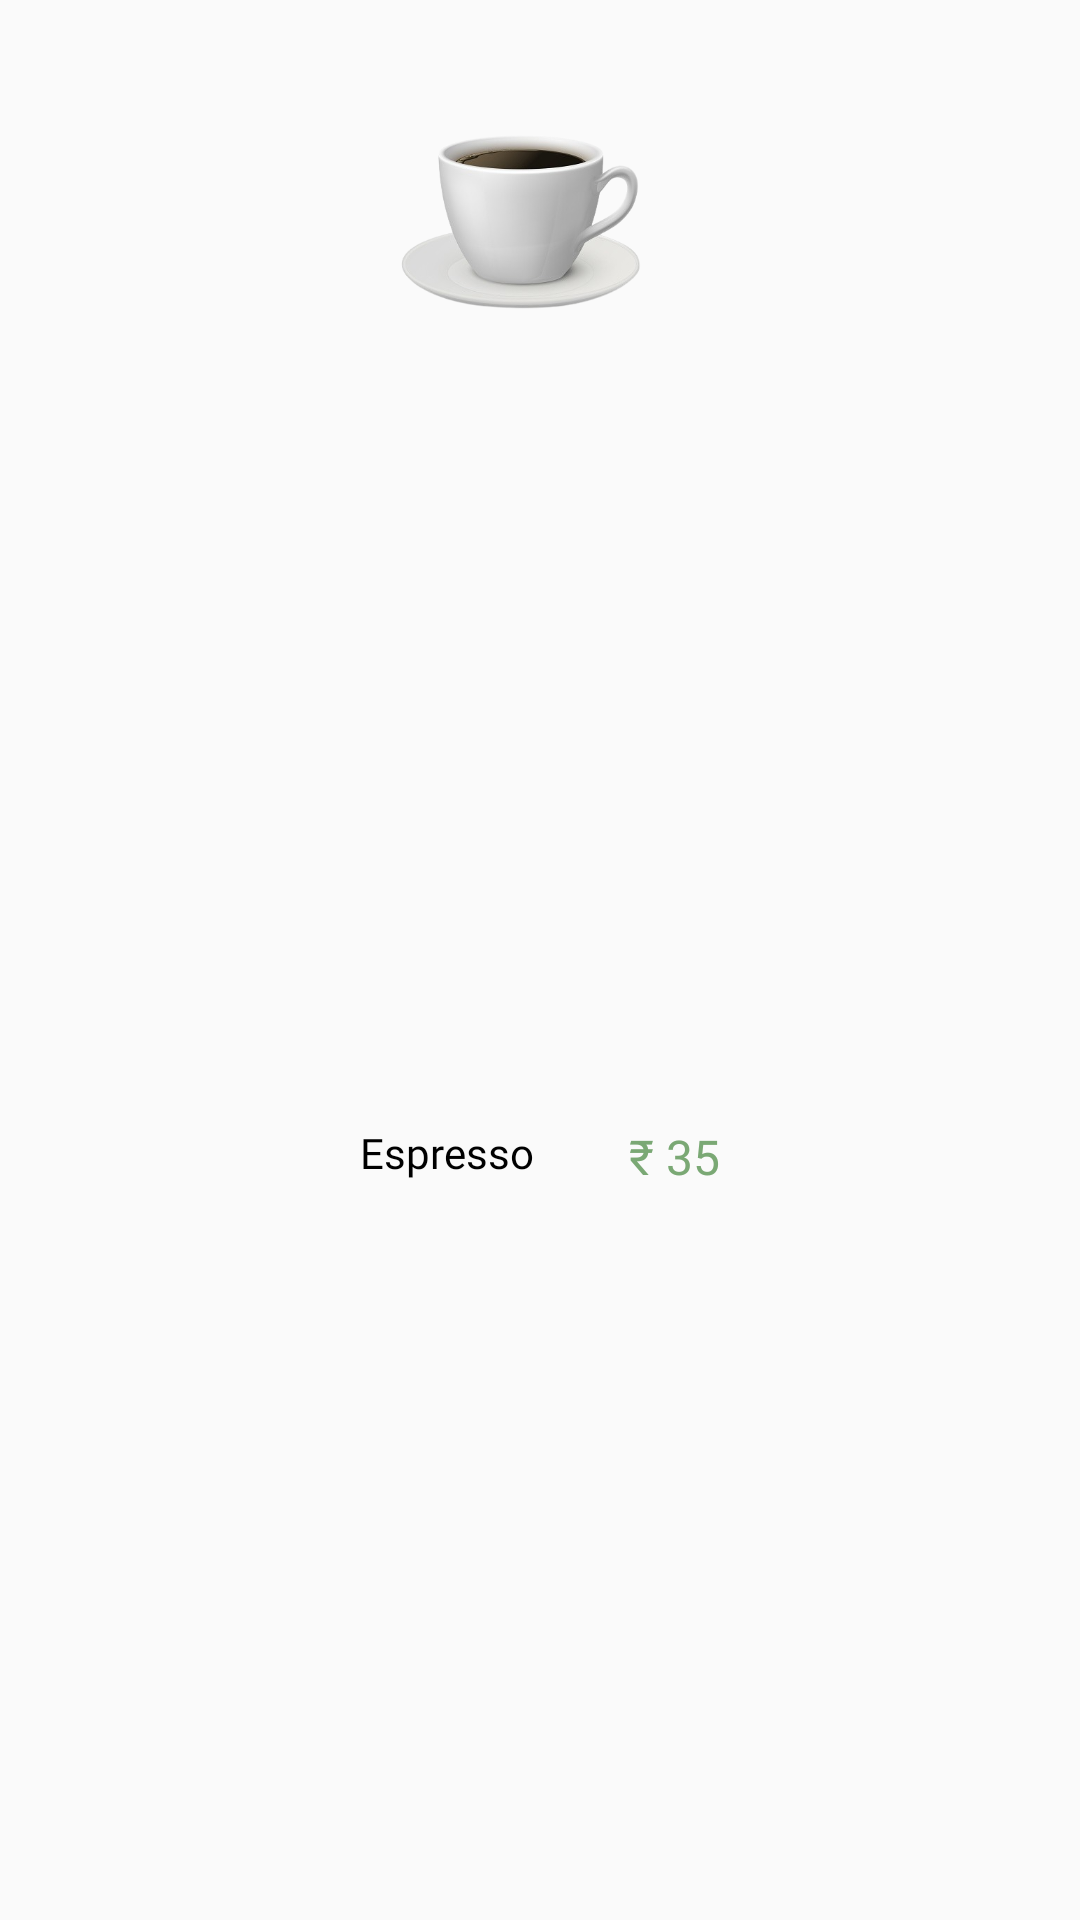

Screen size 1080px x 1920px. Icon name, then its center in pixels as (x=x, y=y):
espresso: (x=520, y=223)
